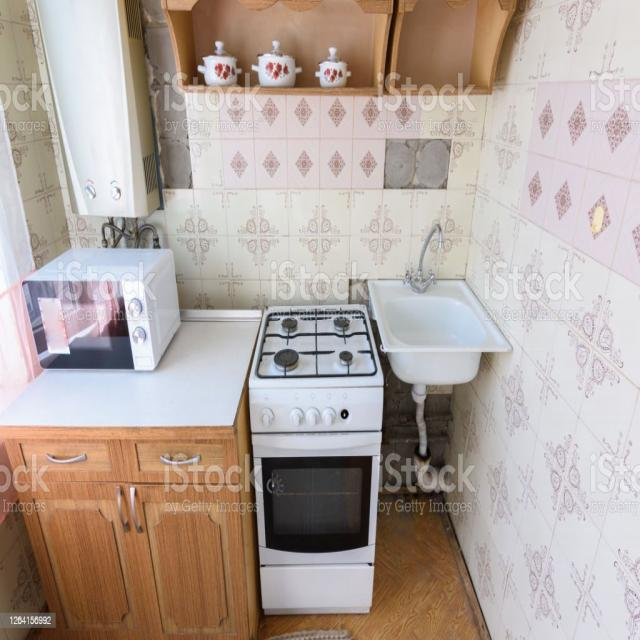oven: (264, 347, 378, 625), (25, 248, 177, 379)
tap: (405, 223, 446, 295)
wardrobe: (12, 396, 260, 640)
wash basin: (385, 240, 511, 449)
